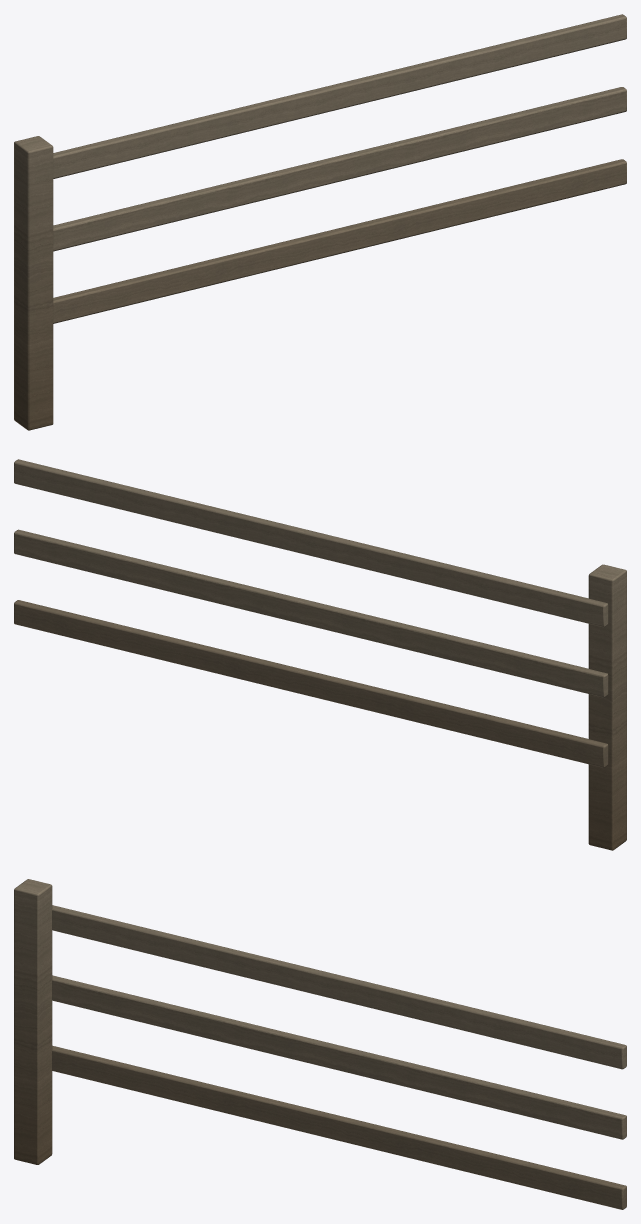
File: prop_fence.glb
3 views of the same model, one above another, from view 1: azimuth 30°, elevation 25°; view 2: azimuth 150°, elevation 25°; view 3: azimuth 330°, elevation 25° (orthographic). The views are drawn at different scales.
Parts seen in each view (by area): view 1: Bay; view 2: Bay; view 3: Bay.
Part boxes in pixels (<box>): Bay: <box>14,14,626,430</box>; Bay: <box>14,459,626,850</box>; Bay: <box>14,879,626,1209</box>.
Size of the model in its own units: 3.1 by 1.35 by 0.165.
Materials: 1 (1 with a texture image).
